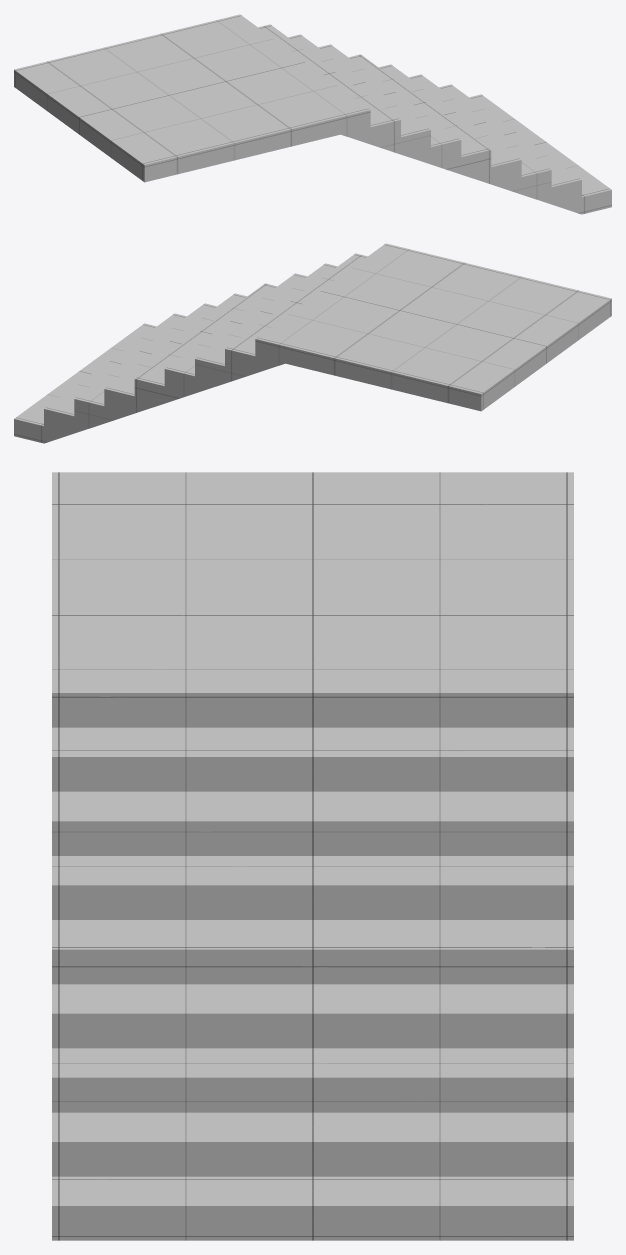
Rendered from Stairs_Closed.fbx.
3 views of the same model, one above another, from view 1: azimuth 30°, elevation 25°; view 2: azimuth 150°, elevation 25°; view 3: azimuth 270°, elevation 25° (orthographic). The views are drawn at different scales.
Visible parts, largest first — view 1: Stairs_Closed; view 2: Stairs_Closed; view 3: Stairs_Closed.
Part boxes in pixels (x1,y1,x2,y2): Stairs_Closed: (14, 14, 611, 214); Stairs_Closed: (14, 243, 611, 443); Stairs_Closed: (52, 472, 573, 1240).
Size of the model in its own units: 15.27 by 4.88 by 7.39.
